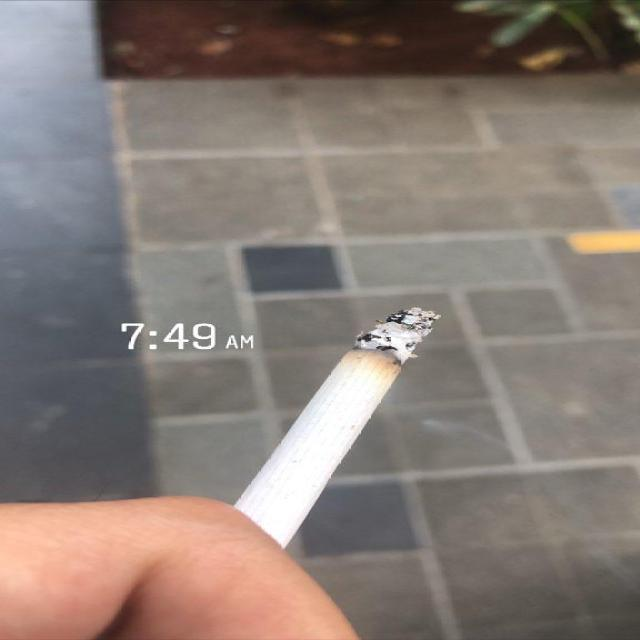rokok: (222, 304, 444, 564)
